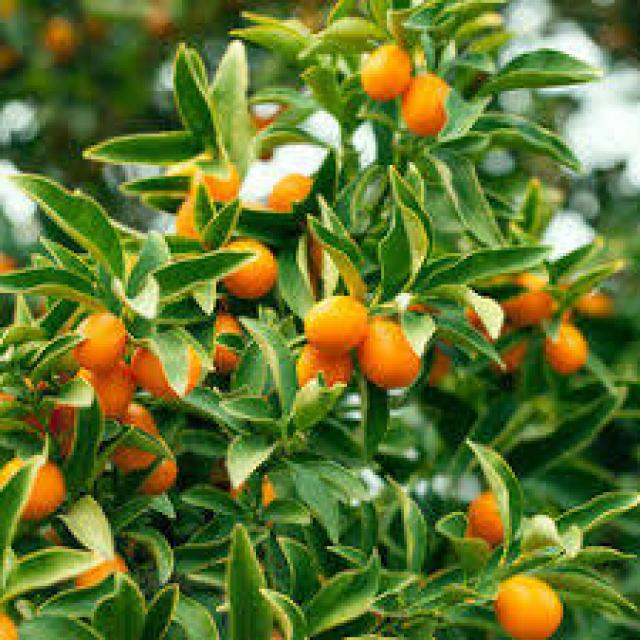organic waste: (9, 160, 165, 284), (162, 40, 250, 154), (105, 398, 182, 489), (0, 372, 77, 463), (219, 461, 302, 532), (478, 48, 606, 94), (0, 449, 71, 526), (176, 156, 254, 225), (131, 330, 213, 395), (74, 131, 219, 165), (489, 566, 555, 634), (222, 230, 293, 293), (65, 296, 134, 358), (362, 310, 416, 387), (401, 68, 458, 140), (80, 353, 139, 421), (199, 307, 253, 376), (301, 293, 370, 344), (74, 540, 128, 603), (361, 34, 410, 100), (159, 193, 222, 244), (483, 318, 538, 376), (290, 347, 364, 390), (538, 324, 592, 376), (498, 264, 549, 318), (268, 157, 318, 210), (446, 293, 501, 341), (466, 487, 506, 546), (421, 336, 461, 384), (43, 20, 88, 60), (137, 3, 182, 43), (595, 17, 637, 57), (569, 287, 614, 319), (0, 242, 23, 293), (458, 6, 498, 34), (0, 32, 26, 68), (0, 600, 20, 637), (0, 0, 20, 17)
